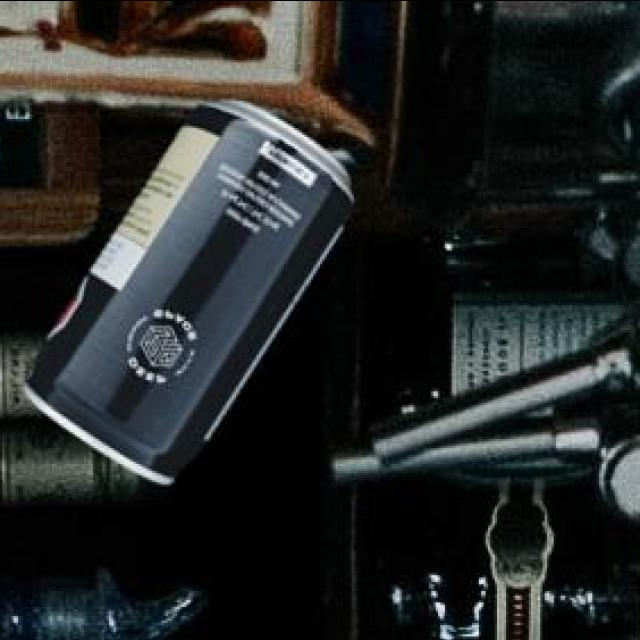logam: (26, 106, 357, 487)
